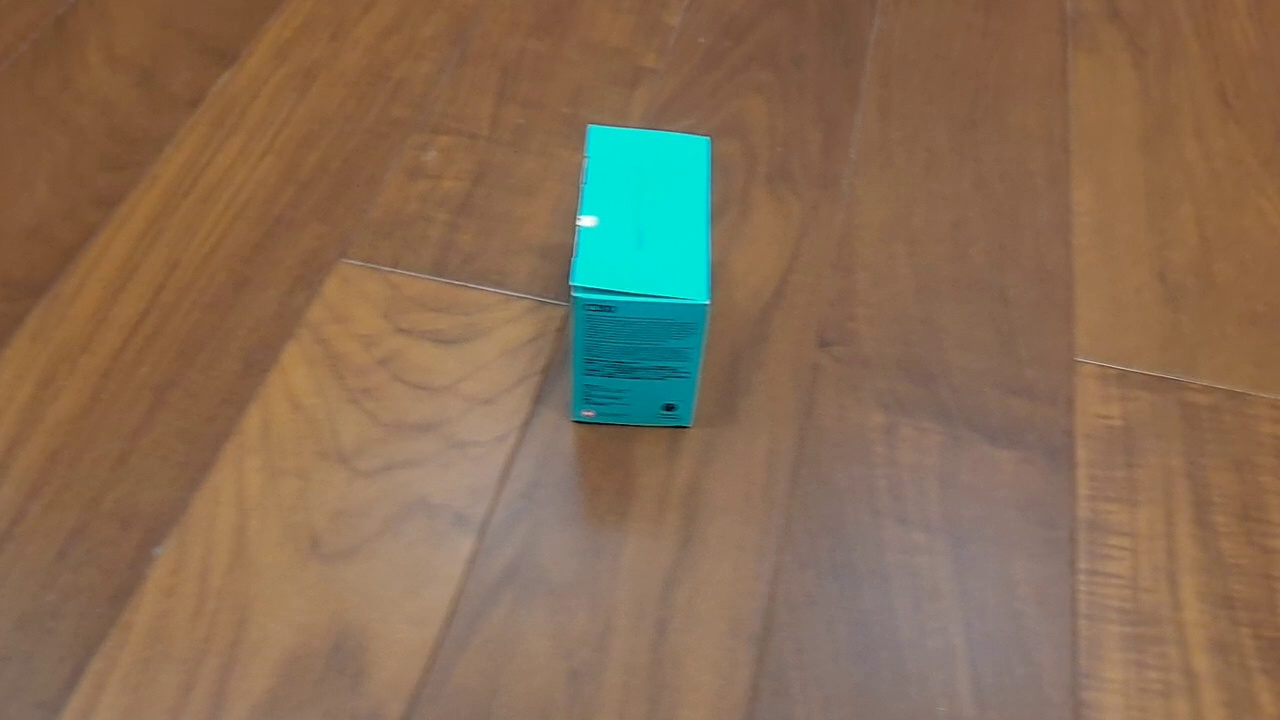webcam: (564, 121, 716, 430)
